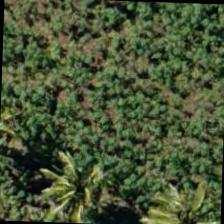Kelapa_Sawit: (44, 137, 138, 223)
